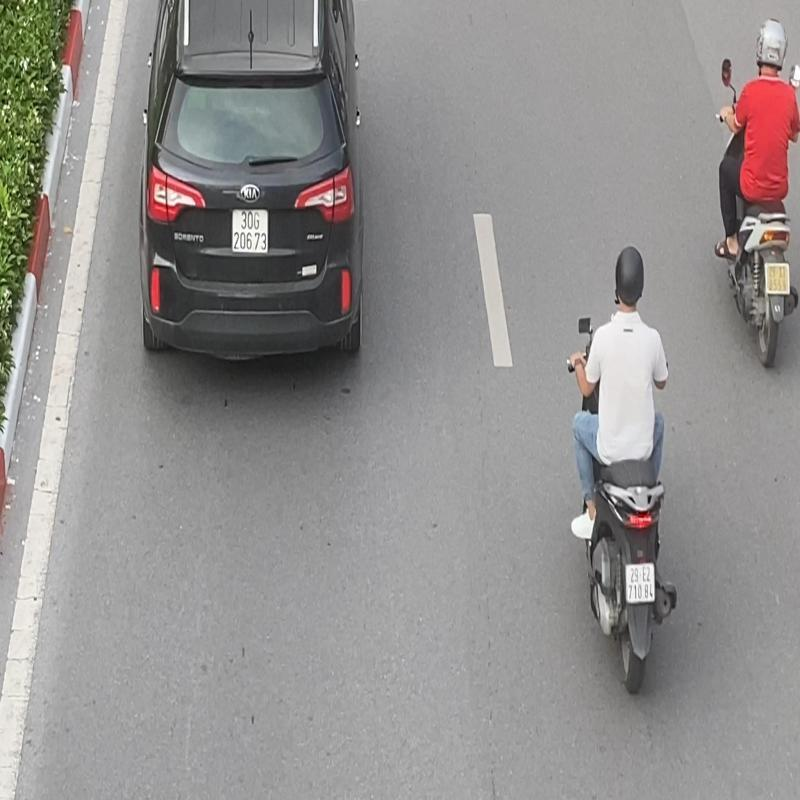helmet: (614, 241, 646, 310)
licenseplate: (626, 562, 656, 603)
motorcyclist: (565, 238, 681, 700)
